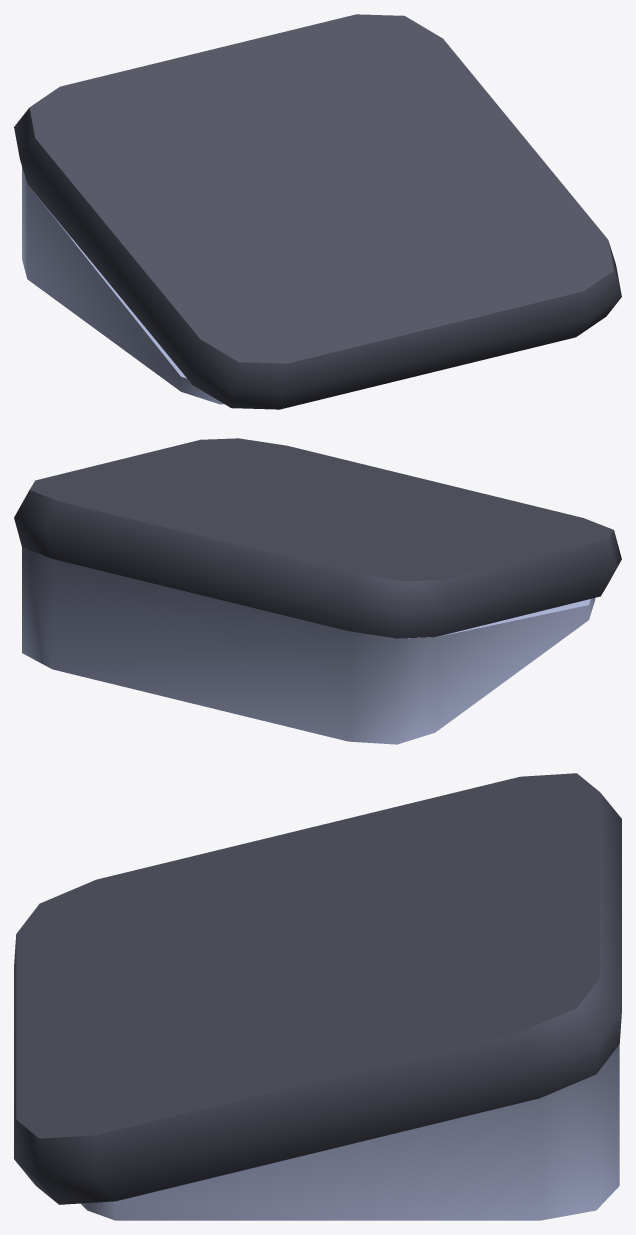
Rendered from block-snow-large-slope.glb.
3 views of the same model, one above another, from view 1: azimuth 30°, elevation 25°; view 2: azimuth 150°, elevation 25°; view 3: azimuth 270°, elevation 25° (orthographic). The views are drawn at different scales.
Parts seen in each view (by area): view 1: block-snow-large-slope; view 2: block-snow-large-slope; view 3: block-snow-large-slope.
Part boxes in pixels (box(x1,y1,x2,y2)): block-snow-large-slope: box(14, 14, 621, 409); block-snow-large-slope: box(14, 438, 621, 744); block-snow-large-slope: box(14, 773, 621, 1220).
Bounding box in the file's own units: 2.08 × 0.7591 × 2.01.
